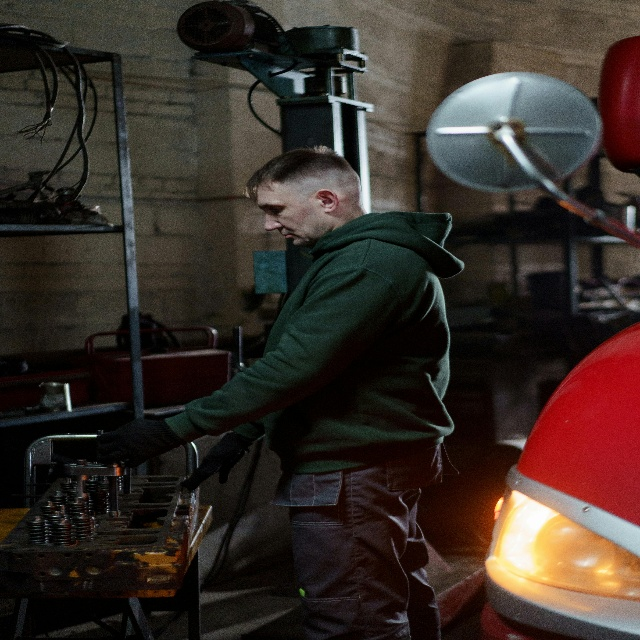Guantes: (94, 411, 184, 470), (179, 432, 253, 493)
